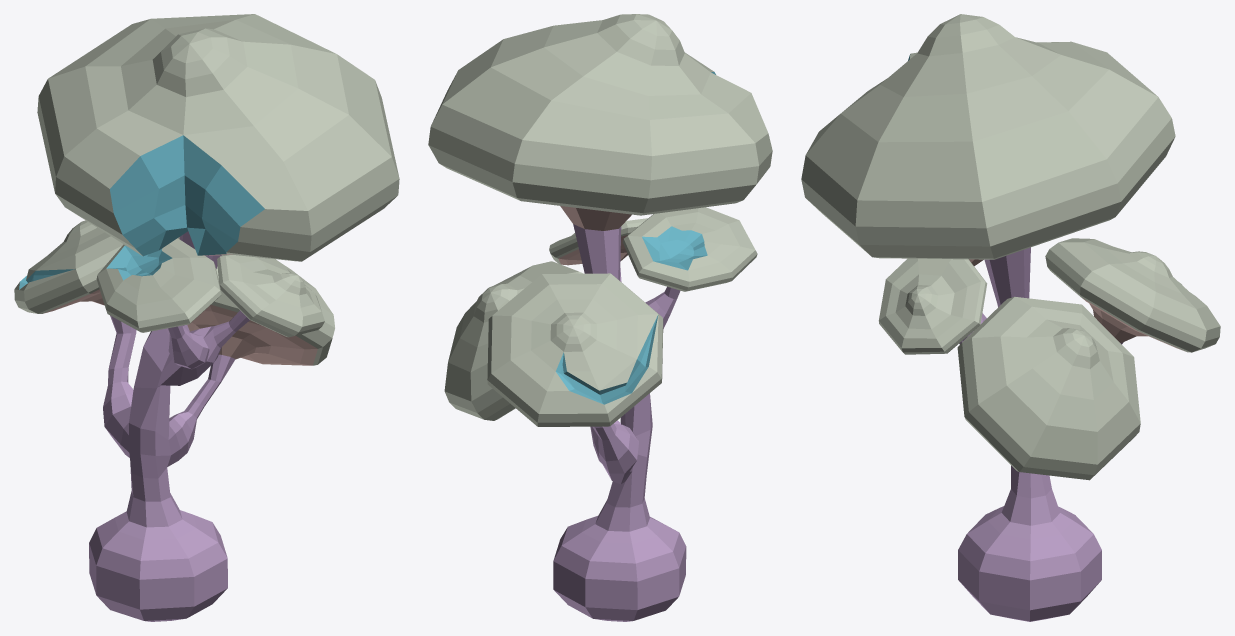
File: Tree_15_Var_04.fbx
3 views of the same model, side by side, from view 1: azimuth 30°, elevation 25°; view 2: azimuth 150°, elevation 25°; view 3: azimuth 270°, elevation 25° (orthographic). The views are drawn at different scales.
Visible parts, largest first — view 1: Tree_15_Var_04; view 2: Tree_15_Var_04; view 3: Tree_15_Var_04.
Boxes of the visible parts, <box> form: Tree_15_Var_04: <box>14,14,399,621</box>; Tree_15_Var_04: <box>428,14,772,621</box>; Tree_15_Var_04: <box>801,14,1220,621</box>.
Bounding box in the file's own units: 2.98 × 4.72 × 2.68.
